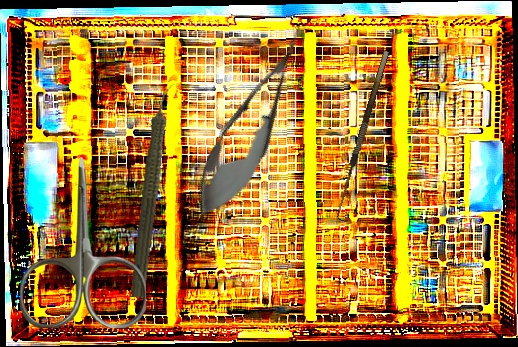Handpiece: (126, 81, 180, 300)
Hook Surgical: (332, 50, 399, 223)
Iris Scissors: (20, 157, 146, 328)
Micro Scissor: (178, 11, 328, 234)
